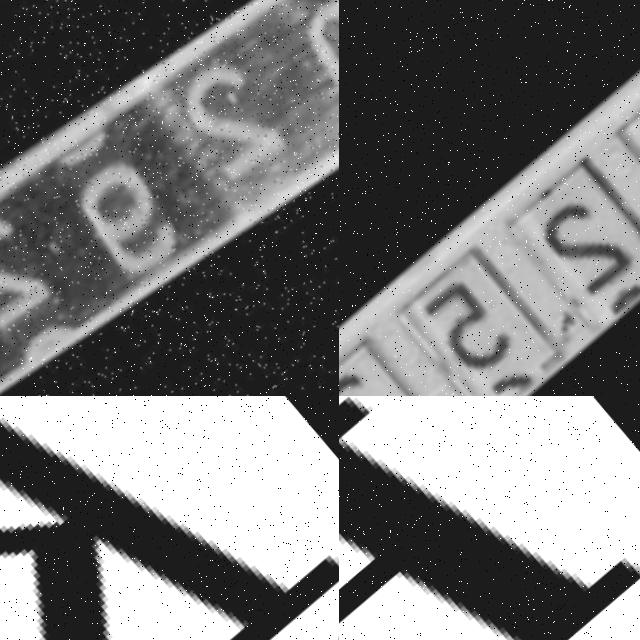0: (259, 0, 339, 136)
2: (146, 26, 327, 205), (0, 176, 89, 352), (530, 176, 640, 294)
3: (339, 346, 432, 396)
5: (409, 252, 540, 382)
9: (45, 124, 223, 300)
H: (339, 396, 640, 640)
K: (0, 396, 339, 640)
